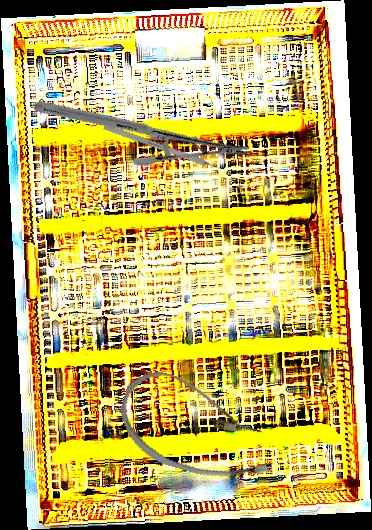Cannula: (109, 364, 289, 493)
Hook Surgical: (102, 123, 231, 175)
Needle Holder: (32, 46, 251, 211)
